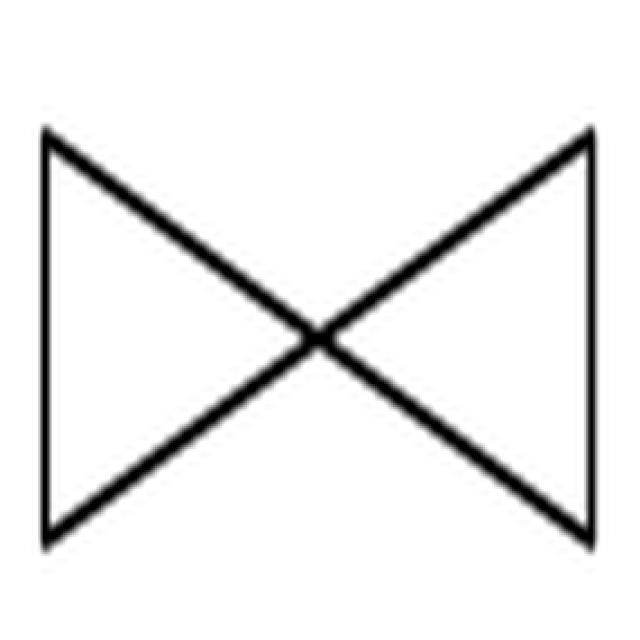Gate valve: (43, 128, 593, 546)
